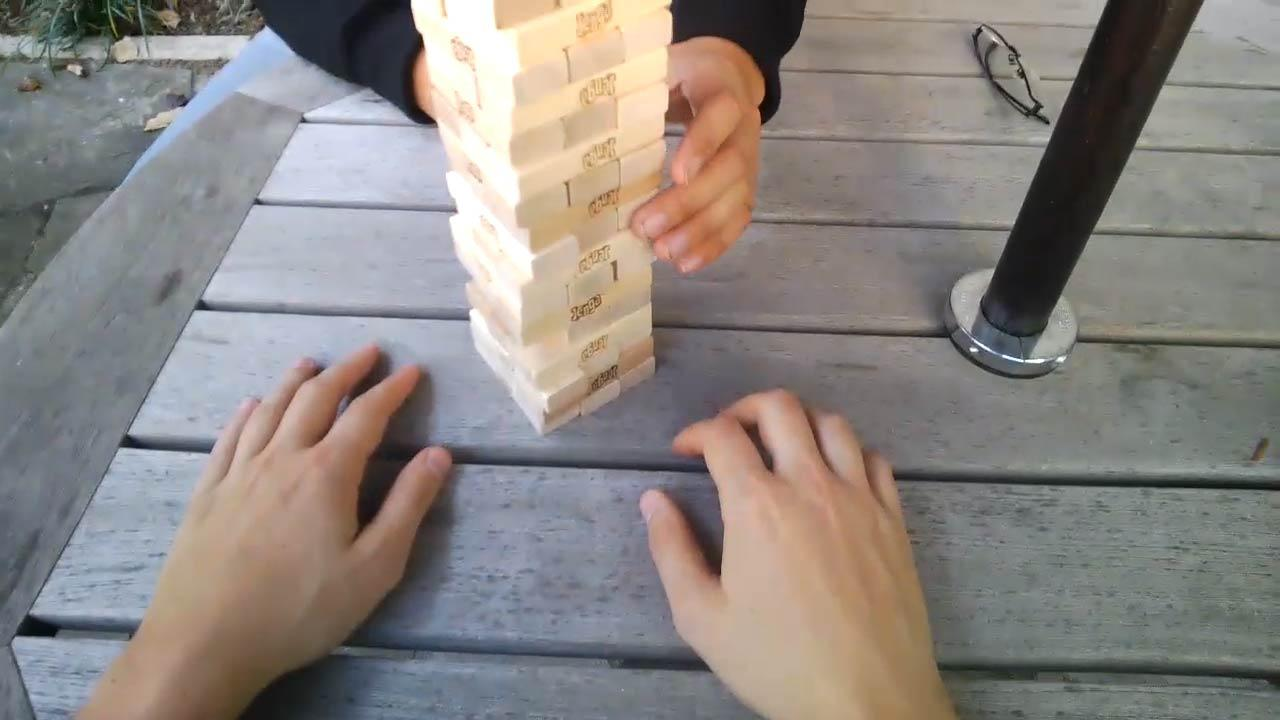hand: (638, 384, 931, 713), (170, 343, 456, 666), (630, 44, 777, 282)
